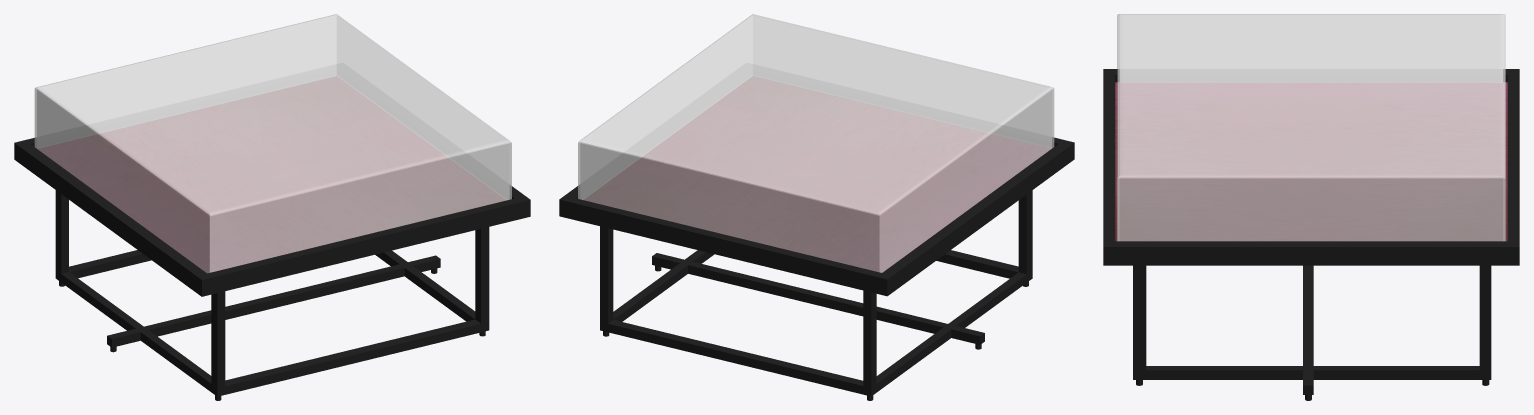
File: mostruario_baixo.fbx
The picture shows the model from 3 angles, left to right: view 1: azimuth 30°, elevation 25°; view 2: azimuth 150°, elevation 25°; view 3: azimuth 270°, elevation 25°; orthographic projection. The views are drawn at different scales.
Parts seen in each view (by area): view 1: cupula.002, painel.002; view 2: cupula.002, painel.002; view 3: cupula.002, painel.002.
Boxes of the visible parts, box(x1,y1,x2,y2) form: cupula.002: box(34, 14, 511, 273); painel.002: box(14, 76, 530, 400); cupula.002: box(578, 14, 1054, 272); painel.002: box(559, 76, 1074, 400); cupula.002: box(1117, 14, 1505, 241); painel.002: box(1103, 69, 1519, 400).
Size of the model in its own units: 1200 by 687 by 1186.
3 materials, 1 textured.
